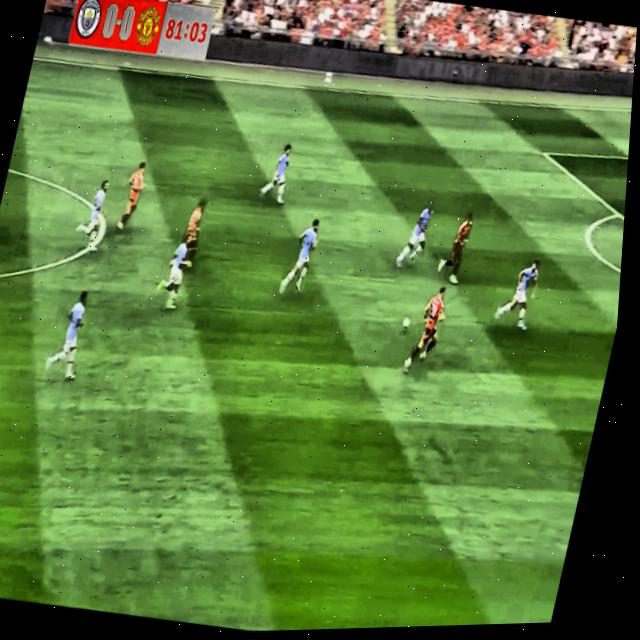ball: (398, 310, 414, 340)
players: (37, 279, 100, 389), (400, 279, 456, 387), (489, 245, 553, 337), (271, 204, 328, 305), (66, 165, 121, 260), (149, 233, 197, 322), (173, 185, 216, 281), (111, 149, 156, 239), (434, 203, 479, 289), (256, 134, 298, 214), (396, 194, 438, 268)
